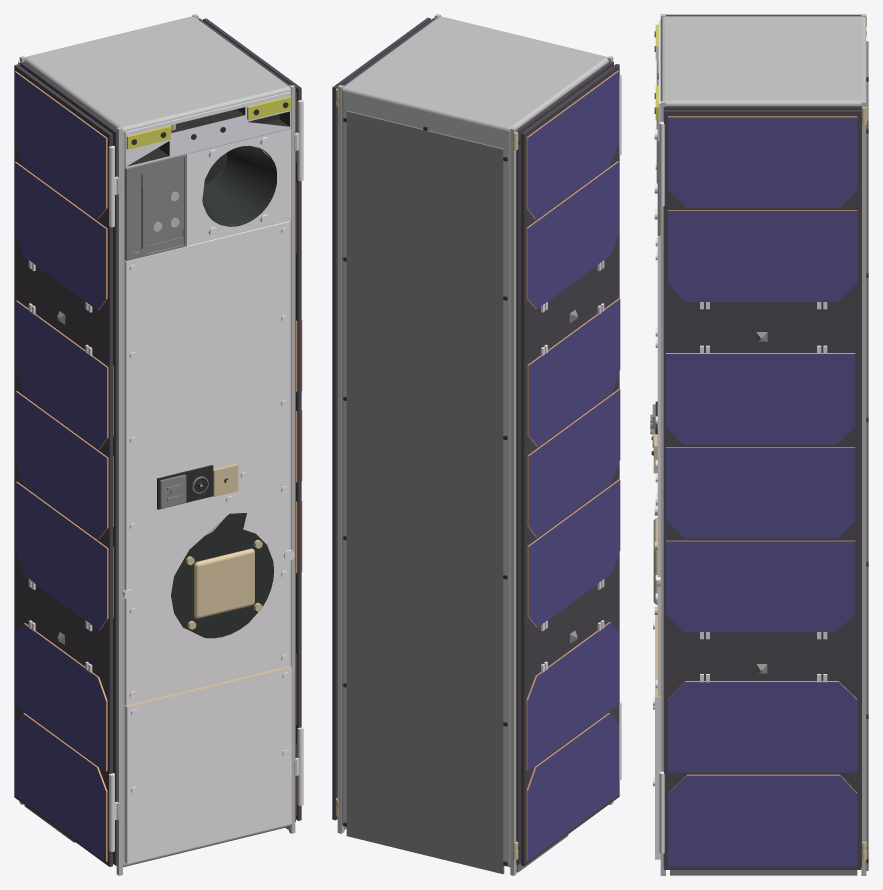
Rendered from cubesat-icecube.glb.
3 views of the same model, side by side, from view 1: azimuth 30°, elevation 25°; view 2: azimuth 150°, elevation 25°; view 3: azimuth 270°, elevation 25° (orthographic). The views are drawn at different scales.
Visible parts, largest first — view 1: Layer_0; view 2: Layer_0; view 3: Layer_0.
Boxes of the visible parts, x1,y1,x2,y2 form: Layer_0: (14,14,303,875); Layer_0: (332,14,621,875); Layer_0: (650,14,868,875).
Bounding box in the file's own units: 2.34 × 8.29 × 2.12.
3 materials, 3 textured.
